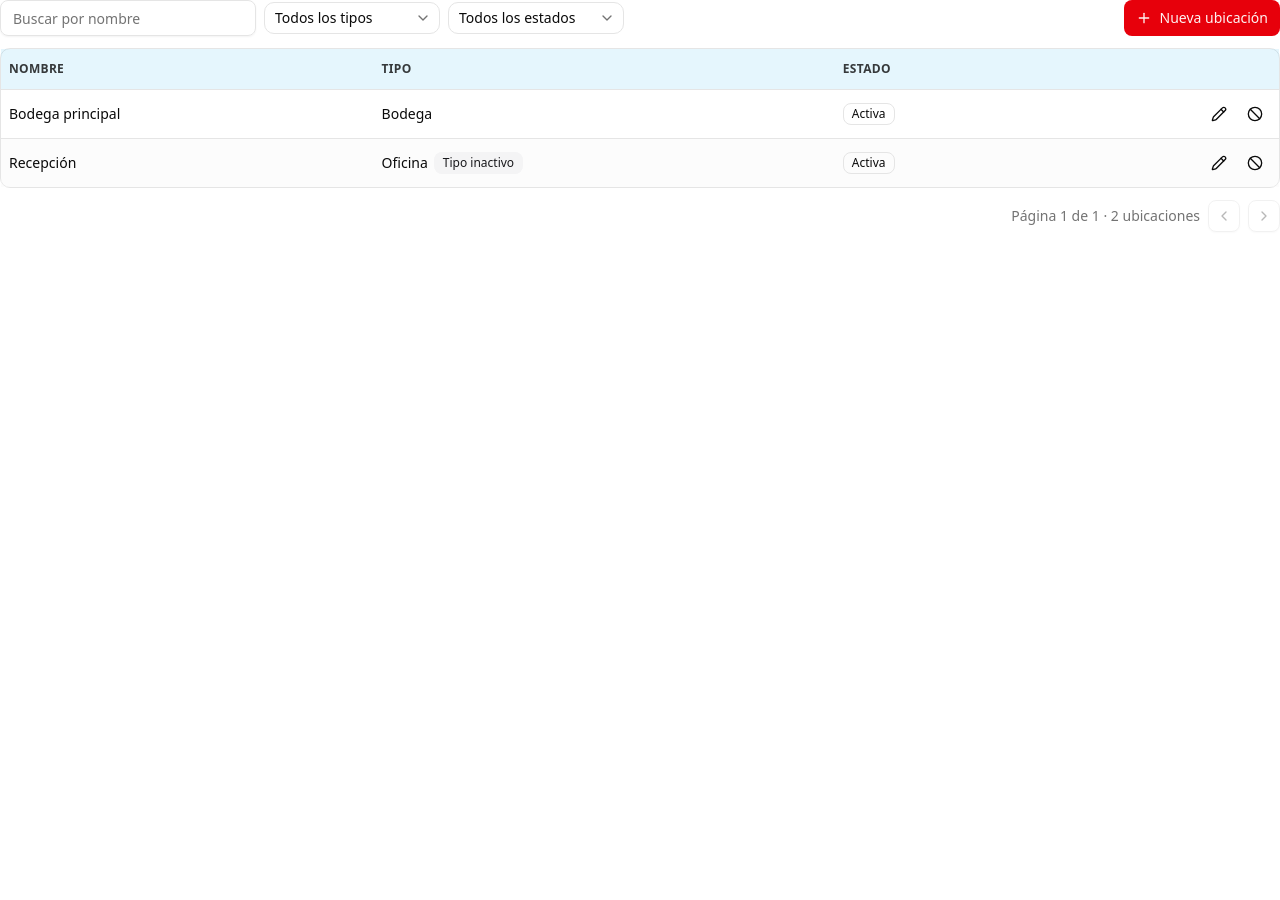
Test: LocationsTab (US3, FR-004, RN-002) › al editar conserva el tipo actual aunque esté inactivo (US3 escenario 4)
Later steps or results of the test are not shown.
Expected: the row "Recepción Oficina Tipo inactivo Activa" is shown, x1=1 y1=138 x2=1279 y2=186
Click the button named "Editar Recepción".
click(1219, 162)  # box x1=1203 y1=146 x2=1235 y2=178
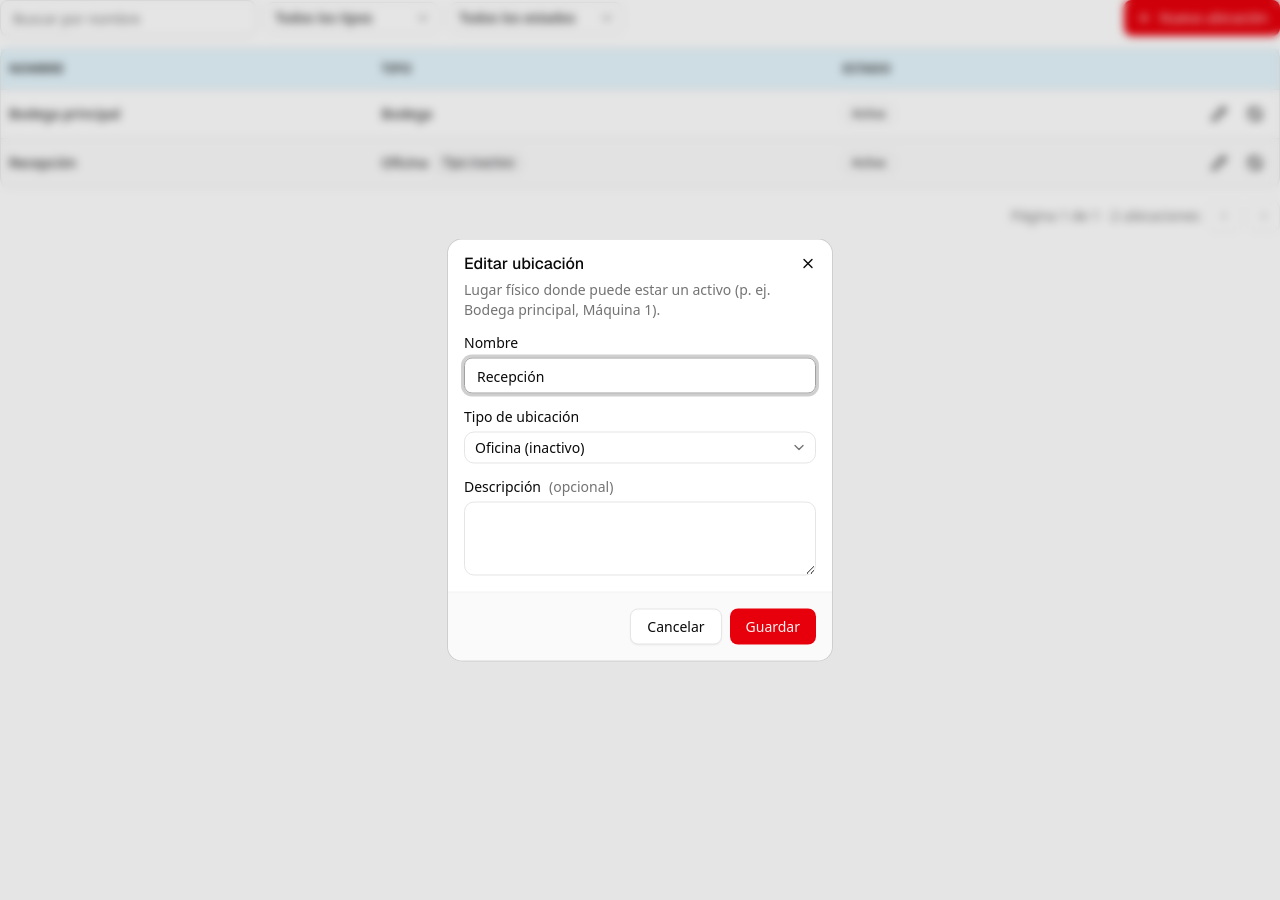
Expected: the dropdown named "Tipo de ubicación" shows "Oficina (inactivo)", x1=464 y1=432 x2=816 y2=464
